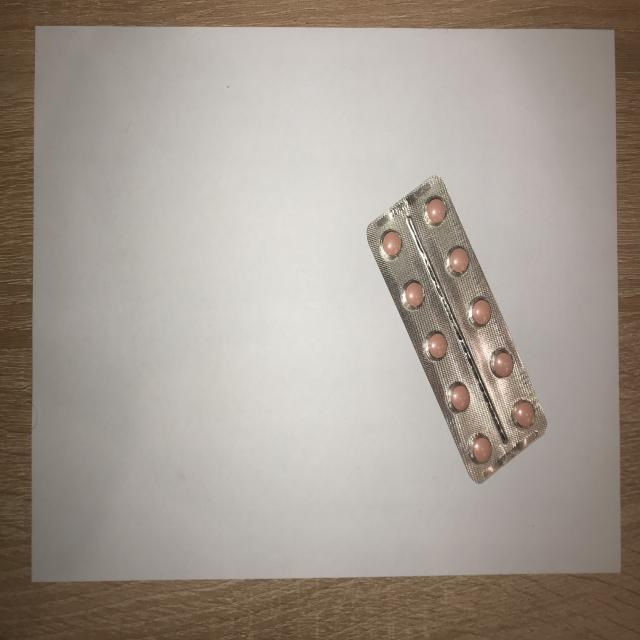tablets: (362, 168, 550, 490)
